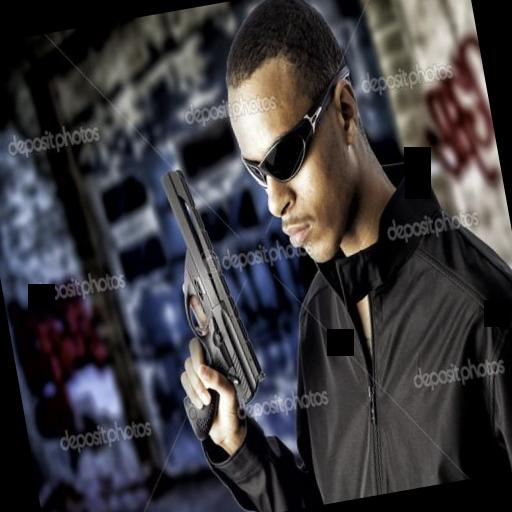Handgun: (138, 160, 282, 435)
